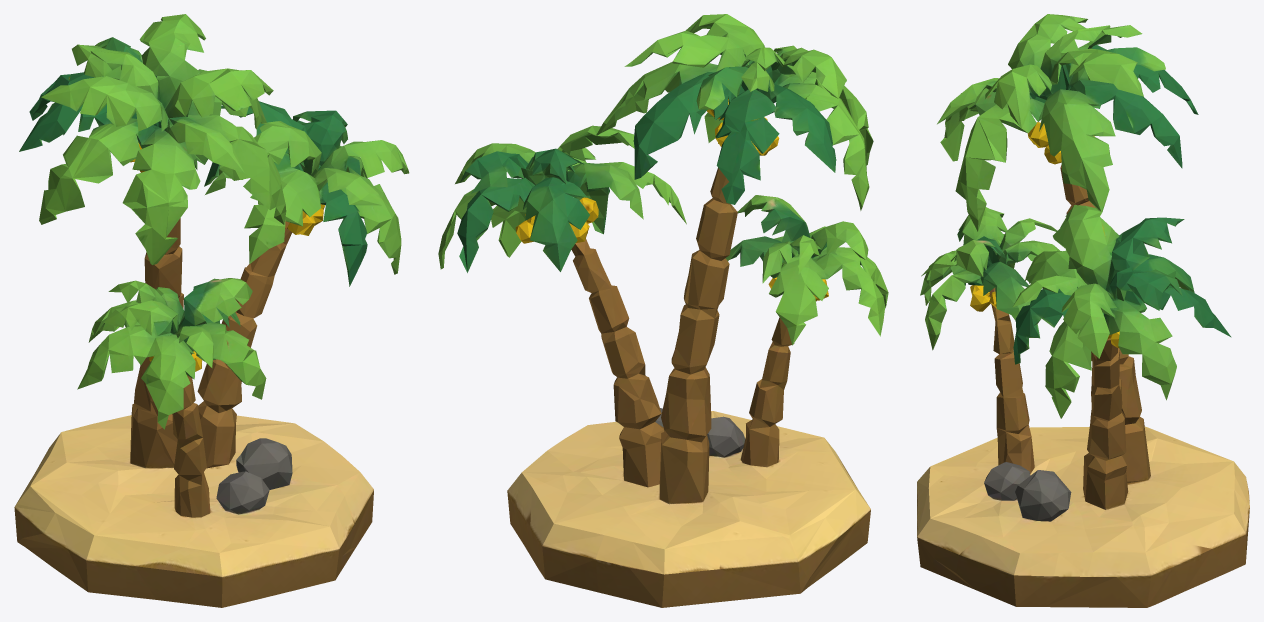
File: island-palms.glb
3 views of the same model, side by side, from view 1: azimuth 30°, elevation 25°; view 2: azimuth 150°, elevation 25°; view 3: azimuth 270°, elevation 25° (orthographic). The views are drawn at different scales.
Visible parts, largest first — view 1: tripo_node_b4013b0a-4402-45d2-9d49-712183d1907c; view 2: tripo_node_b4013b0a-4402-45d2-9d49-712183d1907c; view 3: tripo_node_b4013b0a-4402-45d2-9d49-712183d1907c.
Boxes of the visible parts, box(x1,y1,x2,y2) form: tripo_node_b4013b0a-4402-45d2-9d49-712183d1907c: box(14, 14, 409, 607); tripo_node_b4013b0a-4402-45d2-9d49-712183d1907c: box(438, 14, 888, 607); tripo_node_b4013b0a-4402-45d2-9d49-712183d1907c: box(917, 14, 1249, 607).
Bounding box in the file's own units: 0.8004 × 0.9997 × 0.6209.
Materials: 1 (1 with a texture image).
